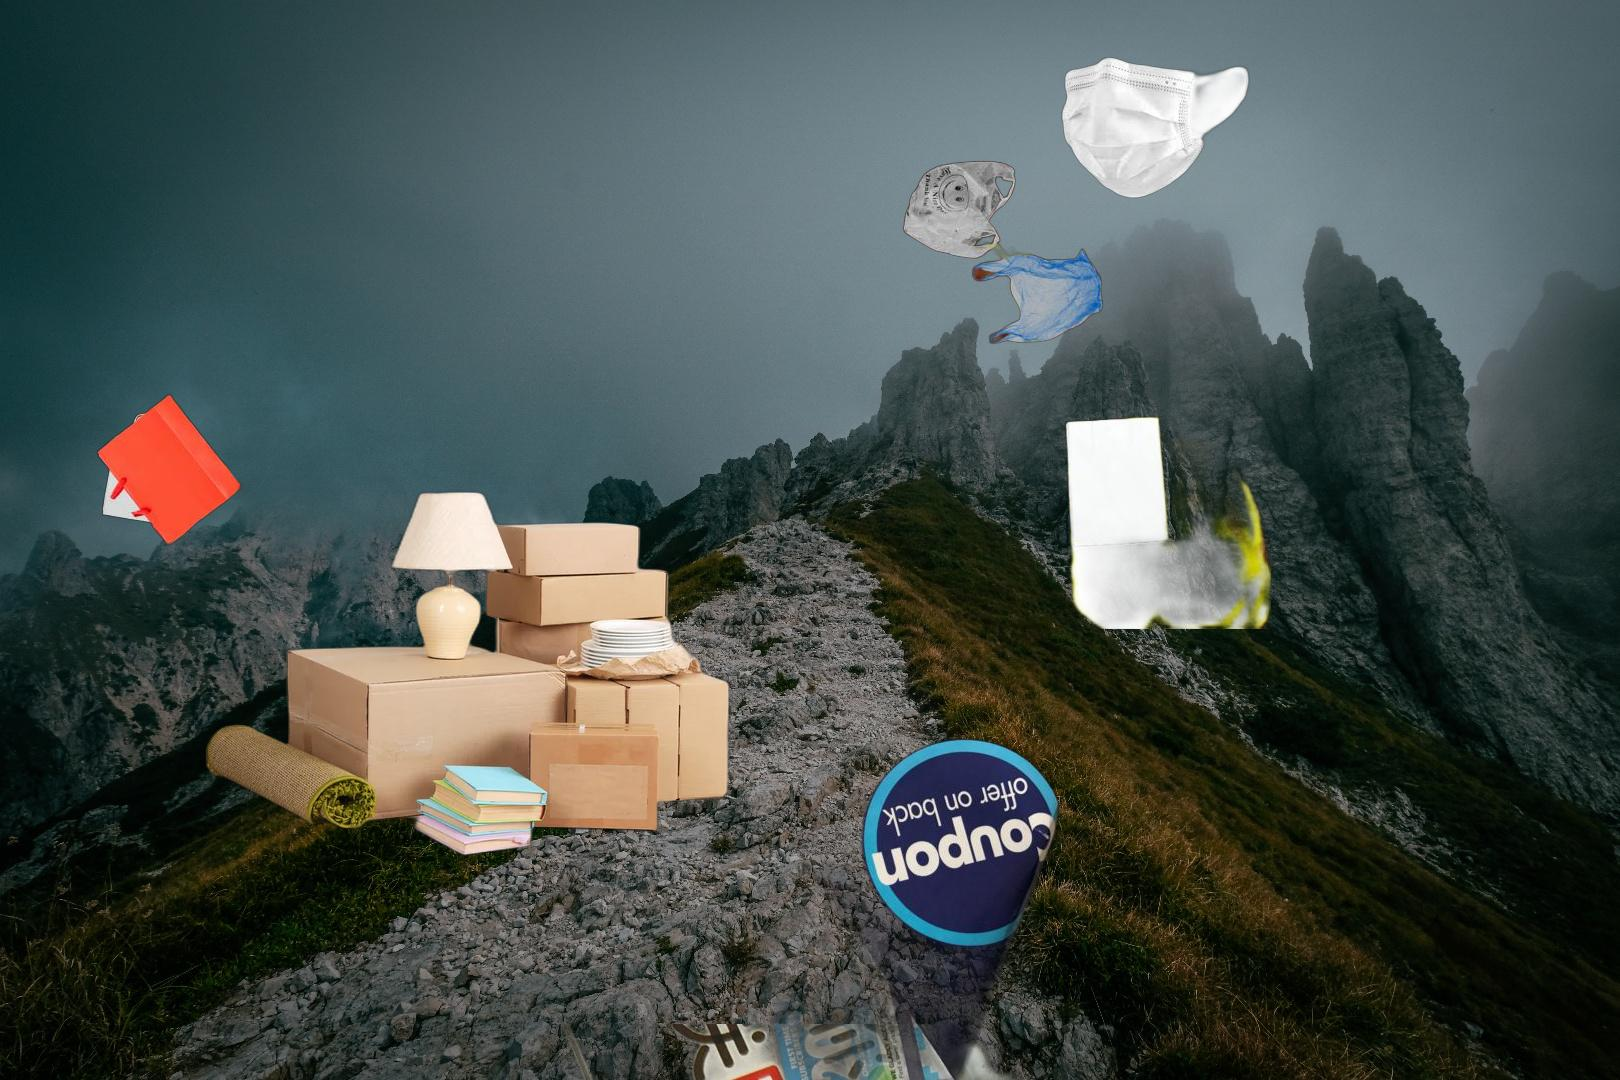paper: (642, 728, 1064, 1080)
paper-bag: (1011, 375, 1270, 629), (94, 391, 247, 548)
penholder: (554, 1025, 1286, 1080)
plastic-bag: (900, 158, 1107, 345), (974, 1041, 1170, 1080)
trash: (1060, 55, 1252, 201)
trashbox-cardboard: (202, 488, 735, 859)
